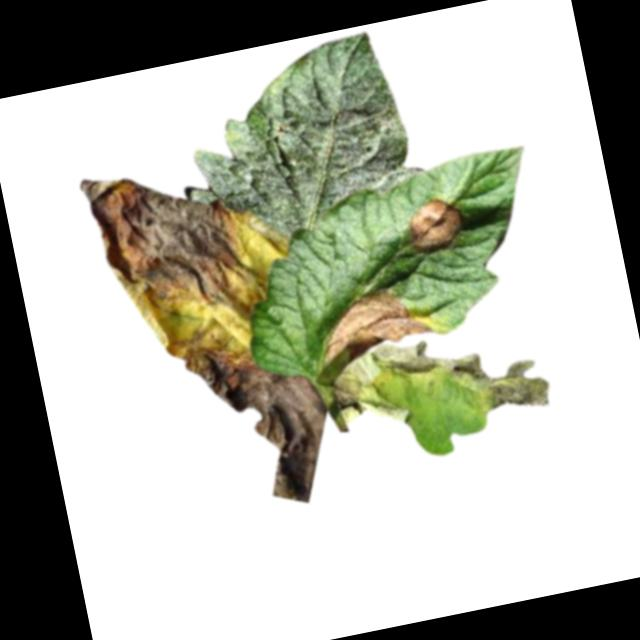Late_blight: (69, 146, 267, 334), (173, 325, 346, 523), (324, 314, 554, 449), (303, 279, 435, 366), (398, 194, 468, 259)
